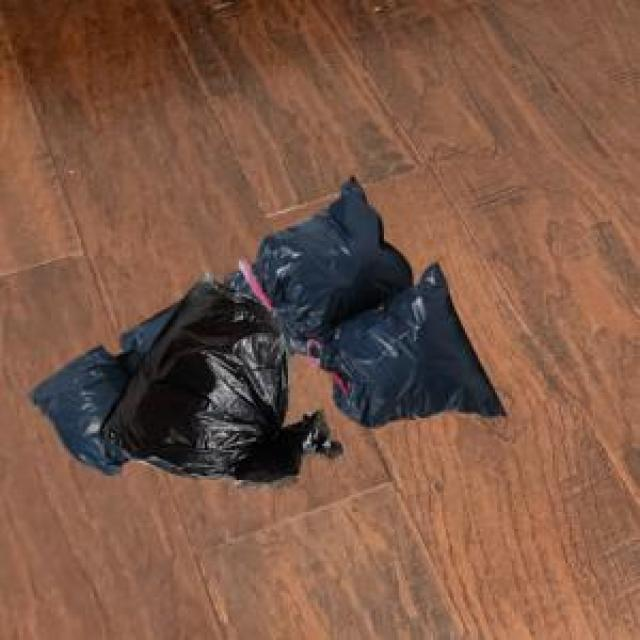waste: (98, 264, 322, 488), (326, 278, 504, 431), (256, 178, 410, 332), (34, 342, 144, 474)
